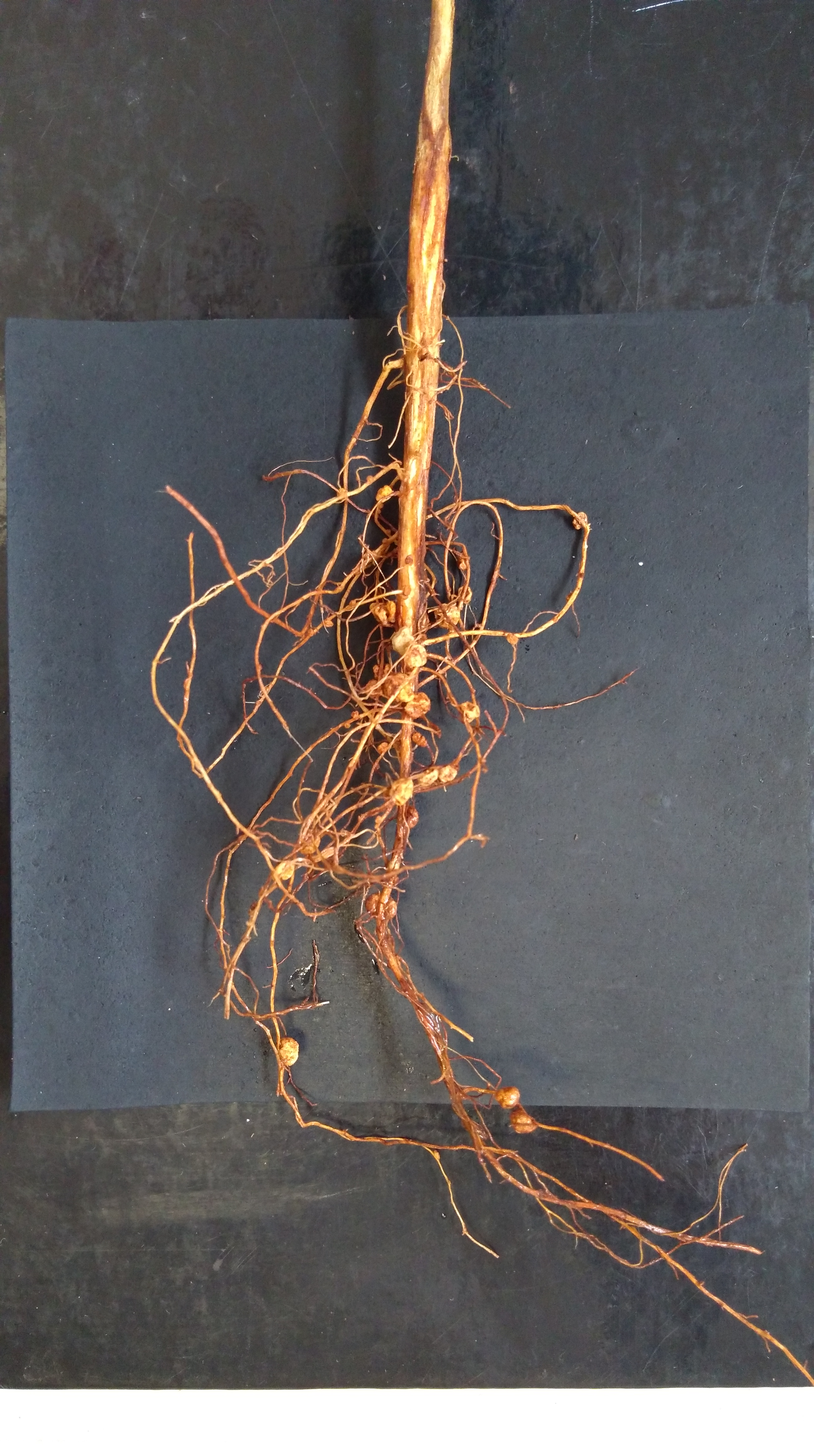nodule: (382, 672, 416, 703), (388, 776, 414, 807), (390, 625, 415, 657), (404, 691, 432, 719), (277, 1035, 300, 1068), (509, 1109, 538, 1135), (434, 602, 461, 629), (493, 1084, 521, 1110), (369, 600, 396, 626), (405, 644, 428, 668), (298, 834, 324, 855), (459, 700, 481, 724), (273, 860, 297, 882), (363, 891, 381, 917), (364, 678, 384, 700), (418, 767, 439, 787), (439, 763, 458, 784), (384, 894, 398, 922), (375, 484, 393, 503), (571, 511, 589, 530), (456, 585, 473, 604), (410, 731, 429, 748), (456, 551, 467, 572), (506, 632, 520, 646), (376, 741, 388, 754), (404, 553, 415, 567), (402, 585, 413, 597), (336, 488, 346, 497), (324, 619, 334, 628), (306, 628, 315, 637), (365, 475, 374, 483), (372, 664, 379, 673), (381, 537, 389, 544), (385, 528, 392, 536), (344, 723, 352, 729), (379, 502, 384, 509), (376, 509, 382, 514)
